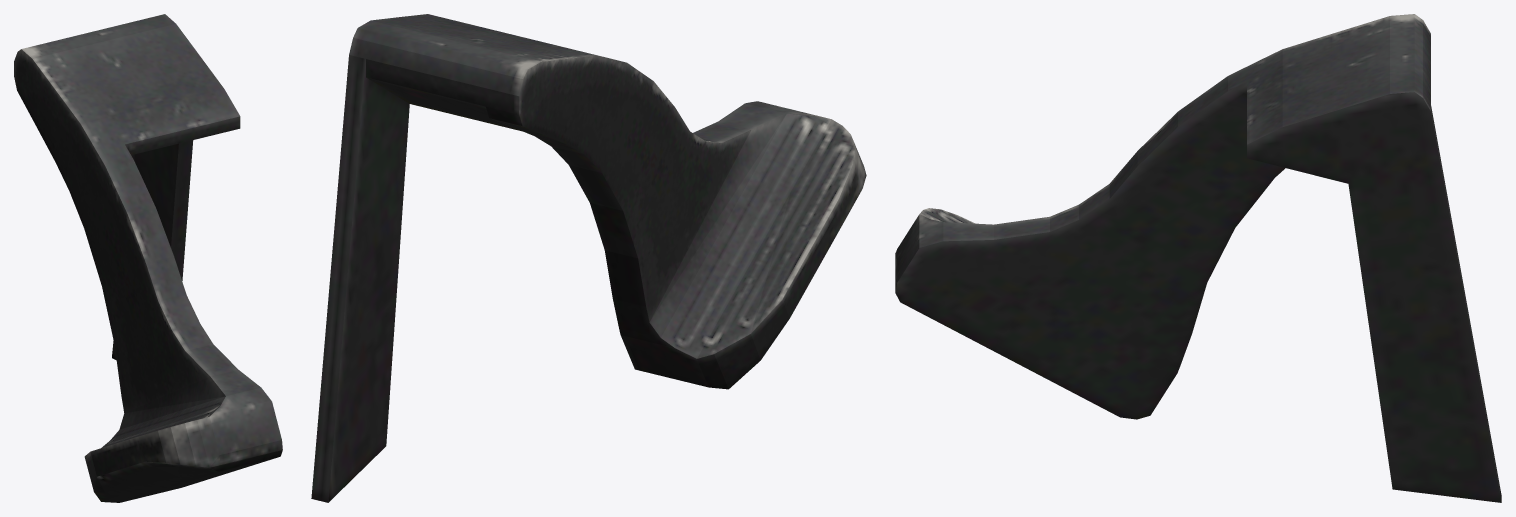
The picture shows the model from 3 angles, left to right: view 1: azimuth 30°, elevation 25°; view 2: azimuth 150°, elevation 25°; view 3: azimuth 270°, elevation 25°; orthographic projection. The views are drawn at different scales.
Parts seen in each view (by area): view 1: TW_624c2e8614da335f1e034d8c_PZ_Import; view 2: TW_624c2e8614da335f1e034d8c_PZ_Import; view 3: TW_624c2e8614da335f1e034d8c_PZ_Import.
Boxes of the visible parts, x1=… form: TW_624c2e8614da335f1e034d8c_PZ_Import: x1=14, y1=14, x2=282, y2=502; TW_624c2e8614da335f1e034d8c_PZ_Import: x1=311, y1=14, x2=866, y2=502; TW_624c2e8614da335f1e034d8c_PZ_Import: x1=895, y1=14, x2=1501, y2=502.
Size of the model in its own units: 0.00563 by 0.0123 by 0.00918.
Materials: 1 (1 with a texture image).
